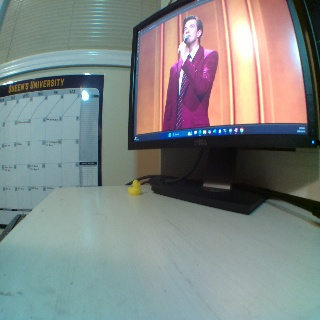duck_regular: (126, 179, 140, 194)
